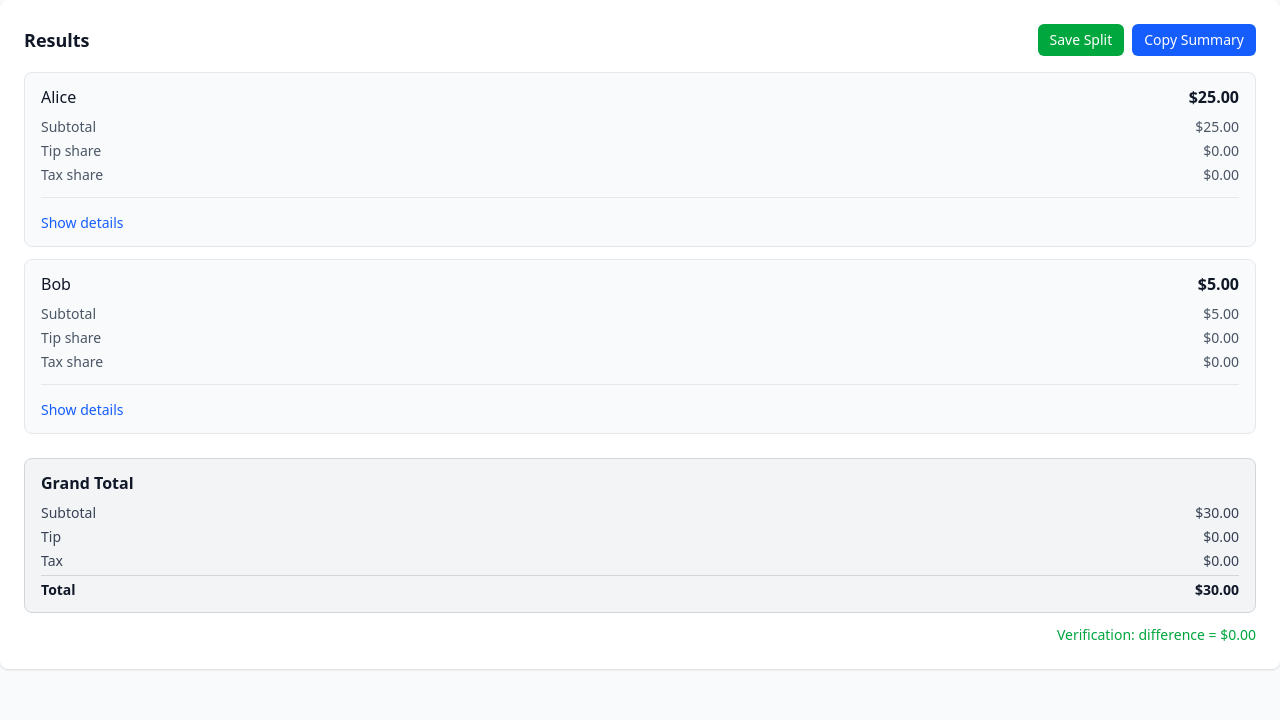
Test: ResultsSection › Save Split › clicking Save Split button shows the save dialog
This screenshot has width=1280, height=720.
Click the button with aria-label "Save this split" at (1081, 40), box [1038, 24, 1124, 56]
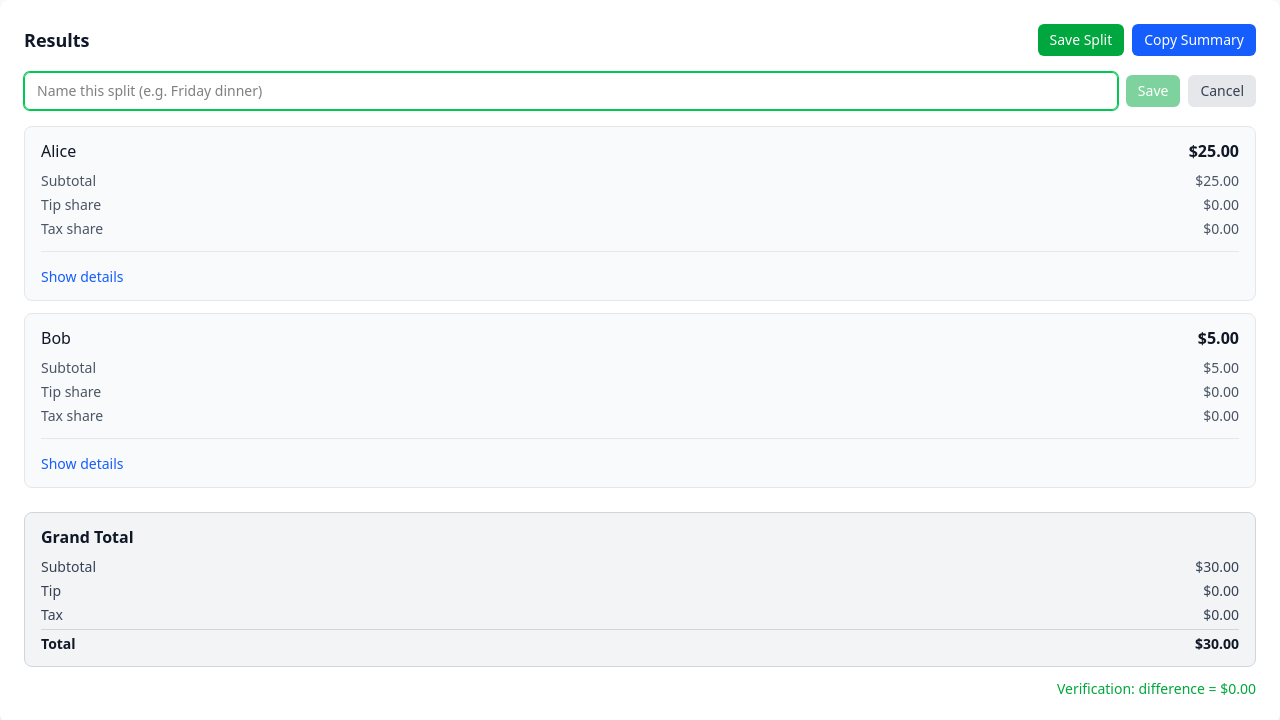
Check: the field with placeholder "Name this split (e.g. Friday dinner)" is shown, box [24, 72, 1118, 110]
